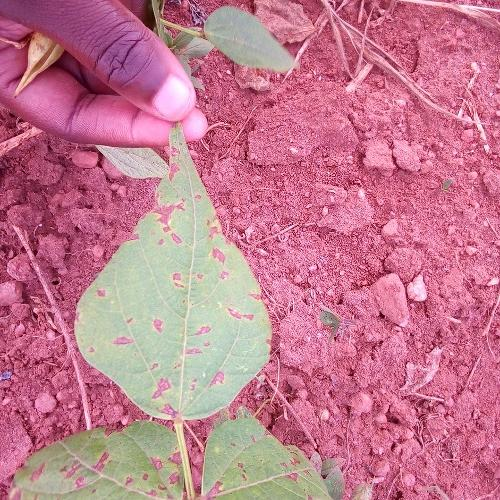mozaik: (60, 144, 319, 430), (18, 424, 348, 500)
